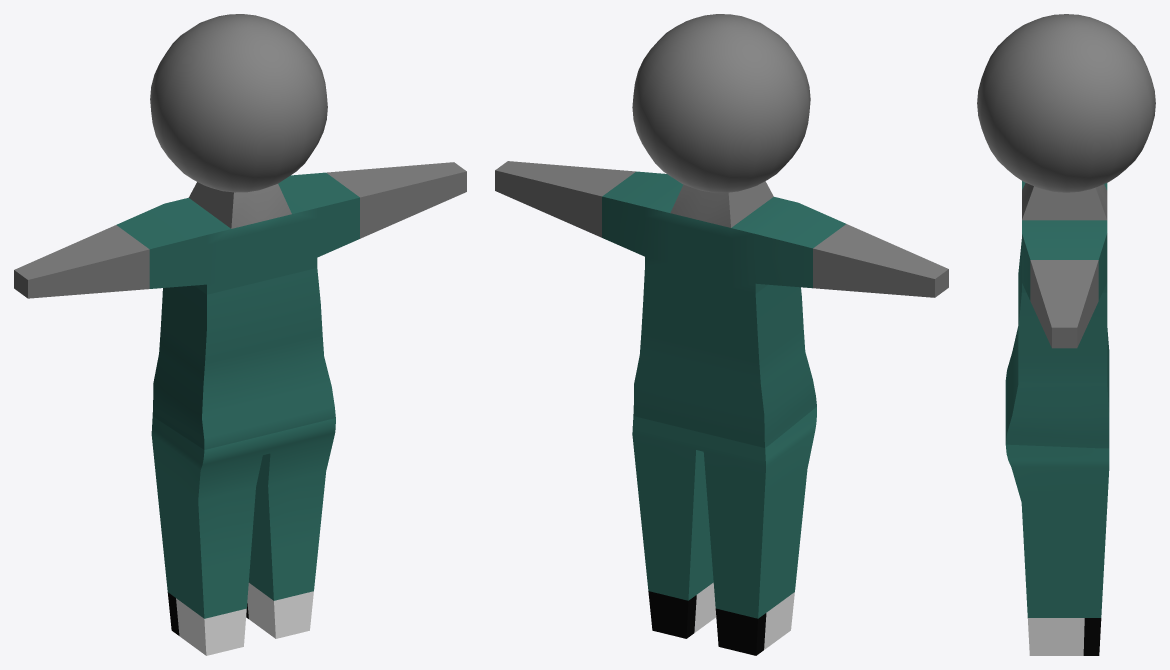
Rendered from man_2.obj.
3 renders of one model, left to right at view 1: azimuth 30°, elevation 25°; view 2: azimuth 150°, elevation 25°; view 3: azimuth 270°, elevation 25°, orthographic.
Parts seen in each view (by area): view 1: pSphere9; view 2: pSphere9; view 3: pSphere9.
Boxes of the visible parts, <box> form: pSphere9: <box>14,14,466,655</box>; pSphere9: <box>495,14,948,655</box>; pSphere9: <box>977,14,1155,655</box>.
Size of the model in its own units: 5.66 by 7.49 by 2.
